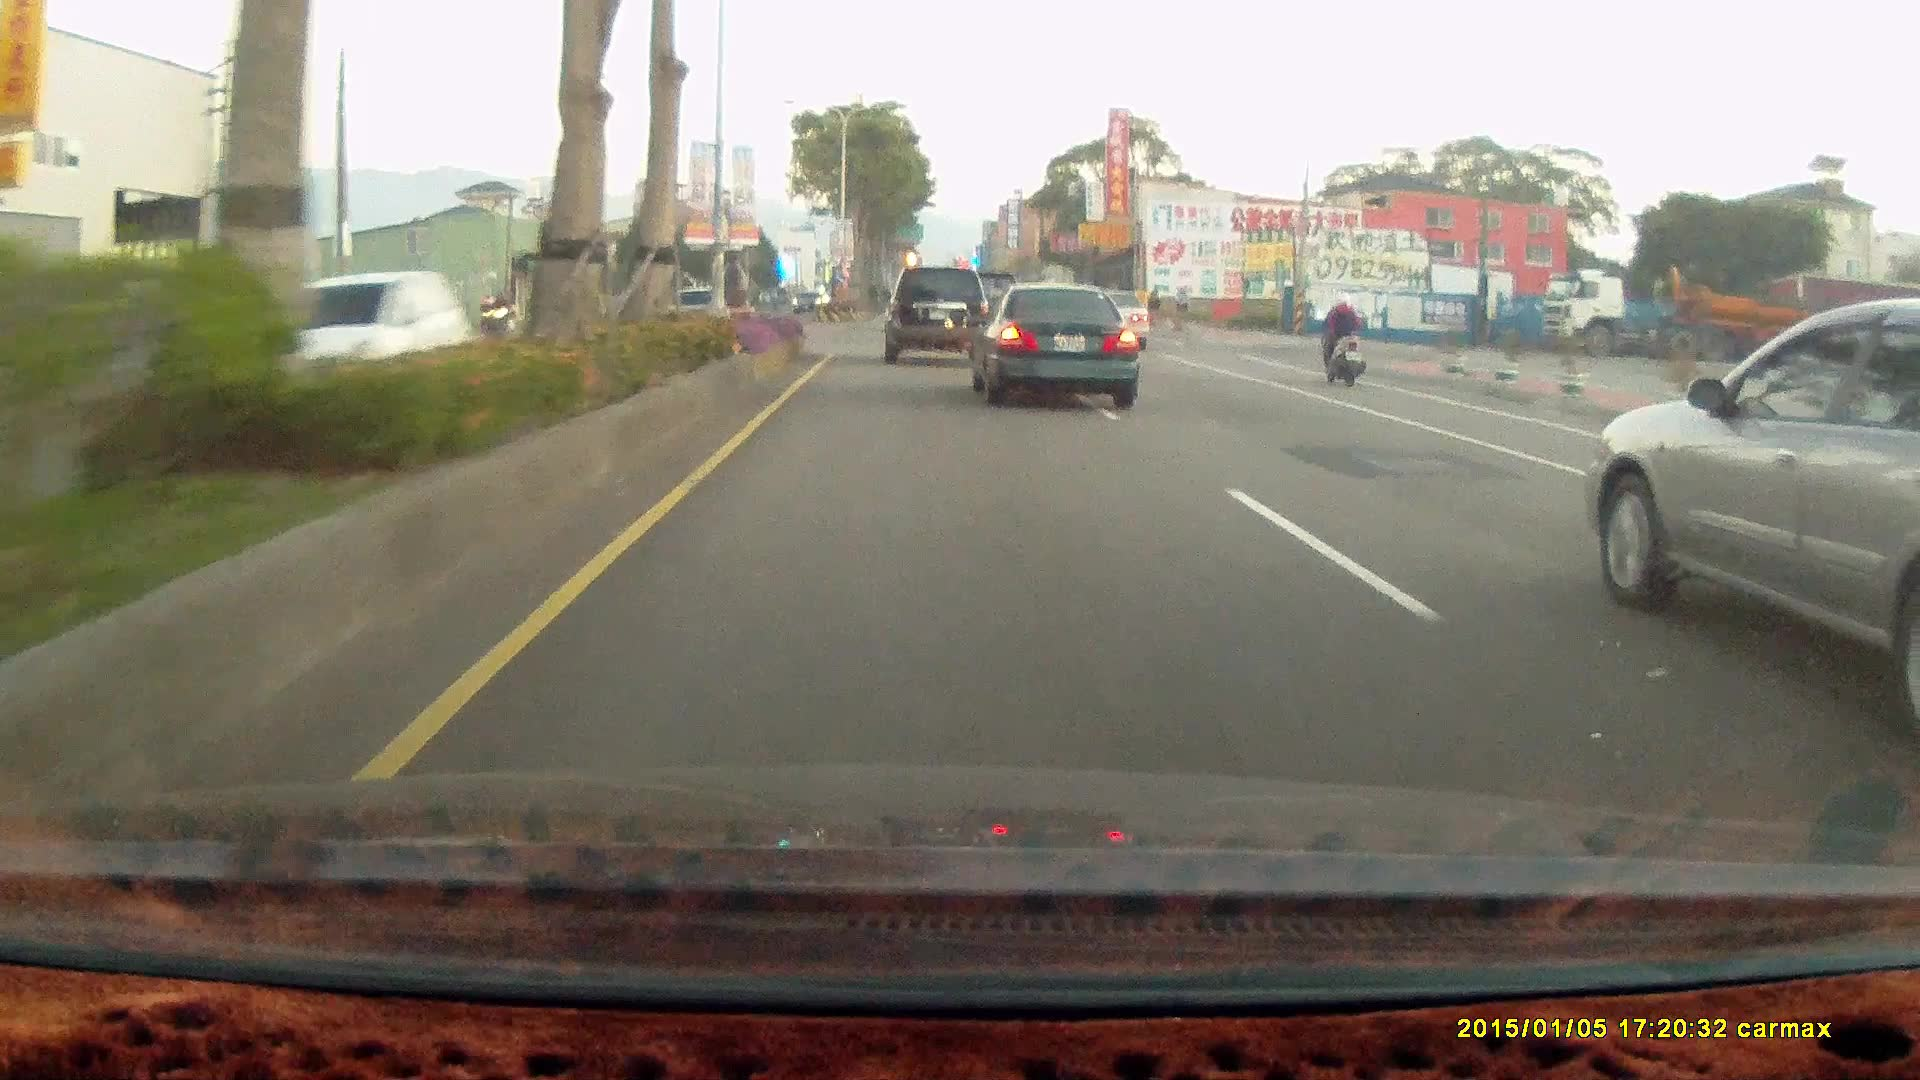rider: (1310, 282, 1374, 393), (1311, 292, 1367, 388), (479, 293, 517, 356)
vehicle: (1592, 296, 1920, 735), (1536, 266, 1920, 367), (248, 270, 473, 415), (266, 271, 466, 414), (963, 287, 1136, 413), (973, 291, 1141, 413), (884, 264, 993, 367), (882, 265, 989, 366), (1078, 290, 1153, 355), (1076, 286, 1150, 350)
